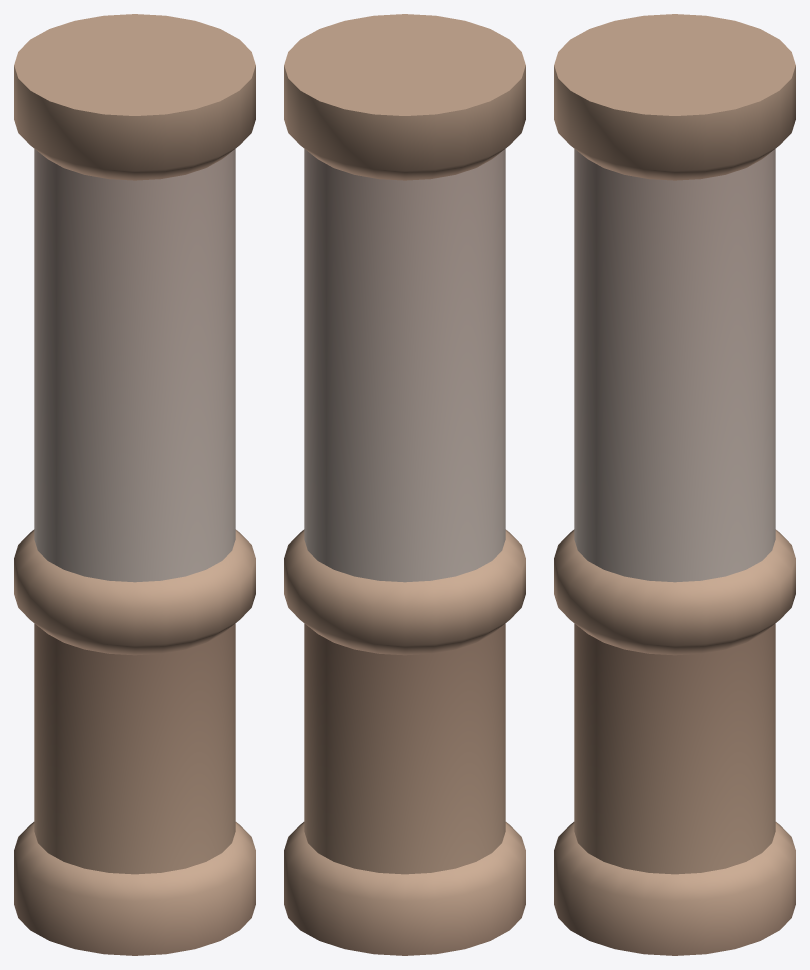
The model's file is column-round-ring.glb.
3 views of the same model, side by side, from view 1: azimuth 30°, elevation 25°; view 2: azimuth 150°, elevation 25°; view 3: azimuth 270°, elevation 25° (orthographic).
Visible parts, largest first — view 1: column-round-ring; view 2: column-round-ring; view 3: column-round-ring.
Part boxes in pixels (x1,y1,x2,y2): column-round-ring: (14,14,255,955); column-round-ring: (284,14,525,955); column-round-ring: (554,14,795,955).
Bounding box in the file's own units: 0.6 × 2.3 × 0.6.
